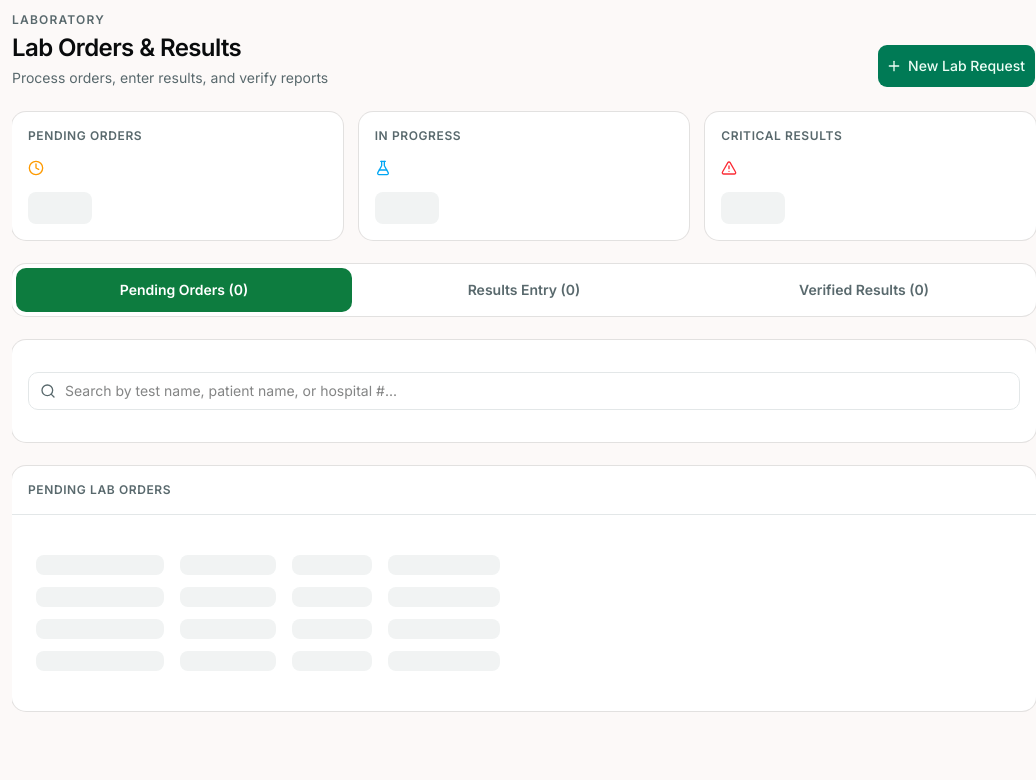
LabPage › keeps entered results under results entry awaiting verification
Click the tab "Results Entry (0)".
click(524, 290)  # box top-left (356, 268), bottom-right (692, 312)
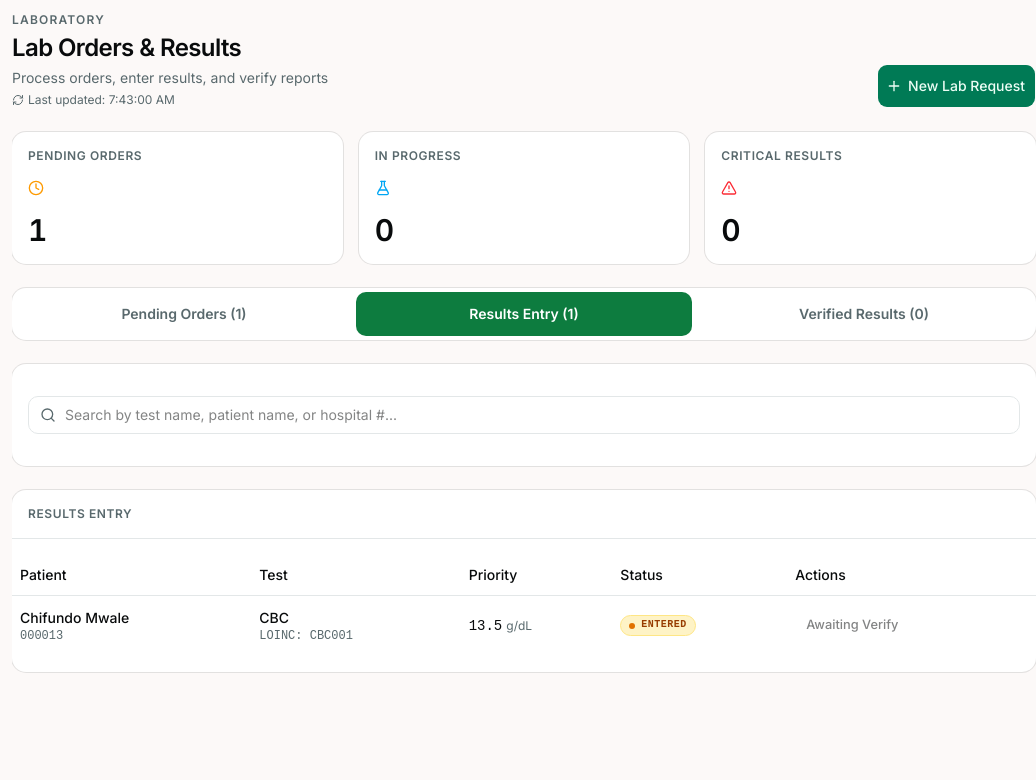
Expected: the text "Chifundo Mwale" is shown, top-left (20, 608), bottom-right (129, 626)
Expected: the button "Awaiting Verify" is shown, top-left (795, 604), bottom-right (909, 648)
